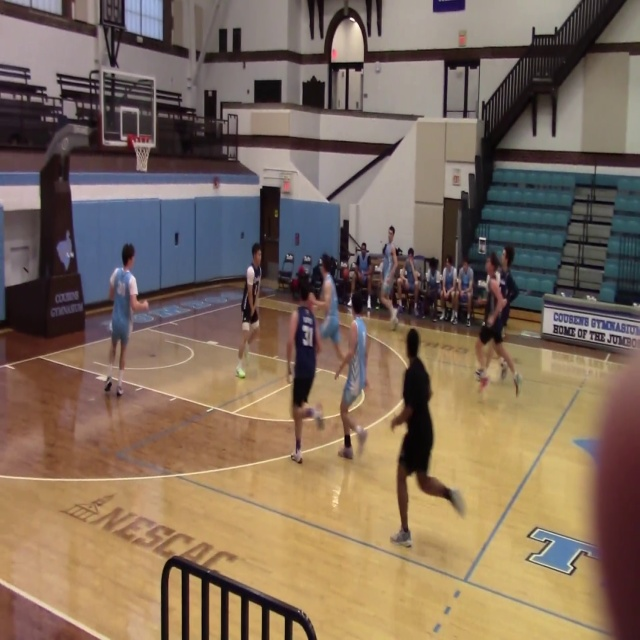Basketball: (246, 266, 255, 284)
